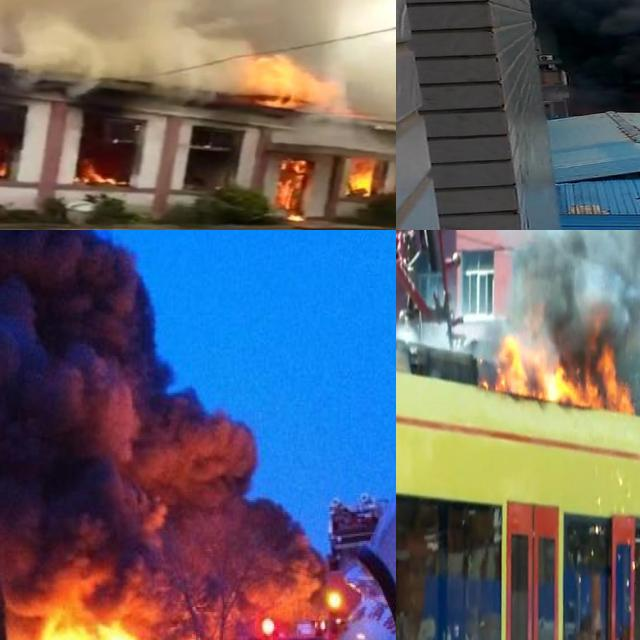fire: (493, 332, 638, 408), (19, 597, 266, 640), (240, 53, 340, 109), (274, 158, 311, 217), (342, 155, 378, 196), (77, 156, 125, 185)
smoke: (0, 230, 324, 631), (0, 0, 396, 71), (511, 230, 640, 341), (544, 0, 640, 88)
